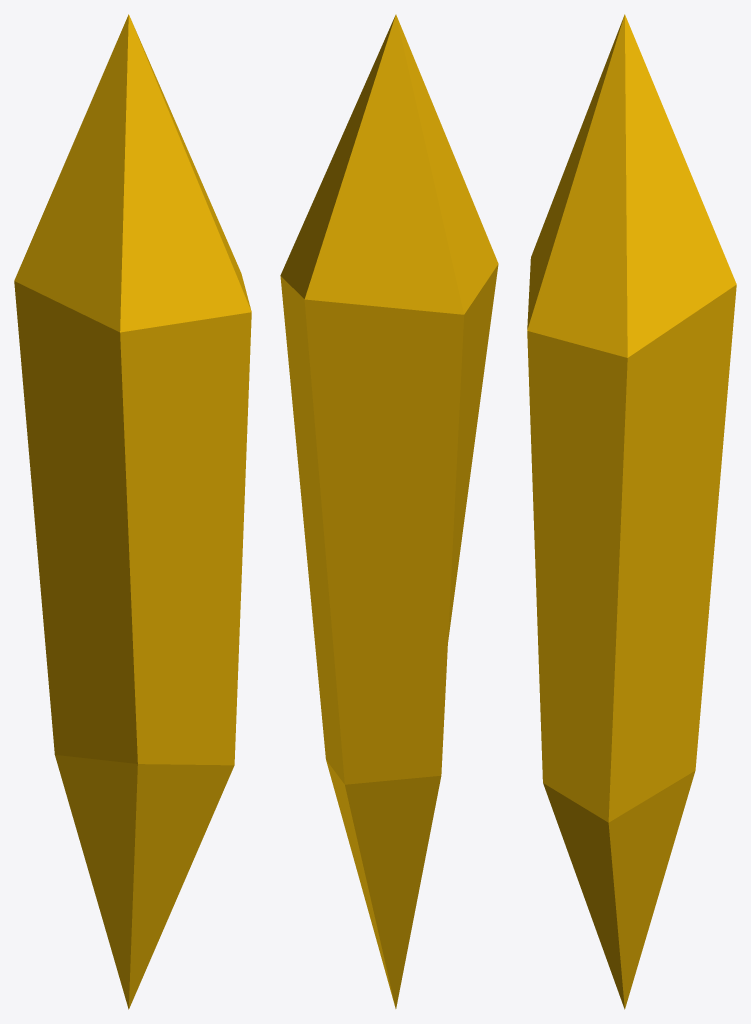
The model's file is clearing_ritual_crystal.obj.
The picture shows the model from 3 angles, left to right: view 1: azimuth 30°, elevation 25°; view 2: azimuth 150°, elevation 25°; view 3: azimuth 270°, elevation 25°; orthographic projection.
Visible parts, largest first — view 1: Cylinder; view 2: Cylinder; view 3: Cylinder.
Boxes of the visible parts, box(x1,y1,x2,y2) form: Cylinder: box(14, 14, 251, 1009); Cylinder: box(280, 14, 498, 1008); Cylinder: box(527, 14, 736, 1009).
Size of the model in its own units: 0.9393 by 4.35 by 0.8294.
